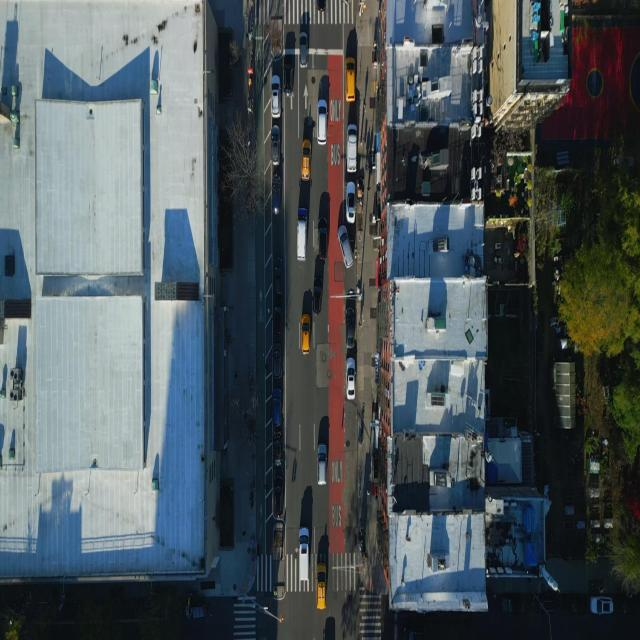Car: (337, 226, 354, 268), (589, 596, 614, 618), (344, 181, 356, 225), (317, 98, 328, 146), (312, 276, 324, 316), (316, 563, 326, 610), (317, 443, 328, 485), (345, 358, 356, 400), (345, 307, 356, 349), (283, 54, 294, 96), (271, 75, 281, 119), (184, 603, 208, 621), (272, 342, 283, 381), (273, 298, 284, 337), (273, 257, 284, 296), (301, 139, 311, 181), (318, 218, 328, 260), (301, 314, 311, 354), (272, 175, 282, 215), (272, 388, 282, 427), (274, 475, 283, 516), (271, 125, 280, 165), (299, 32, 308, 68)
Van: (298, 527, 310, 582), (297, 206, 308, 263), (346, 123, 357, 173), (345, 56, 356, 102)
